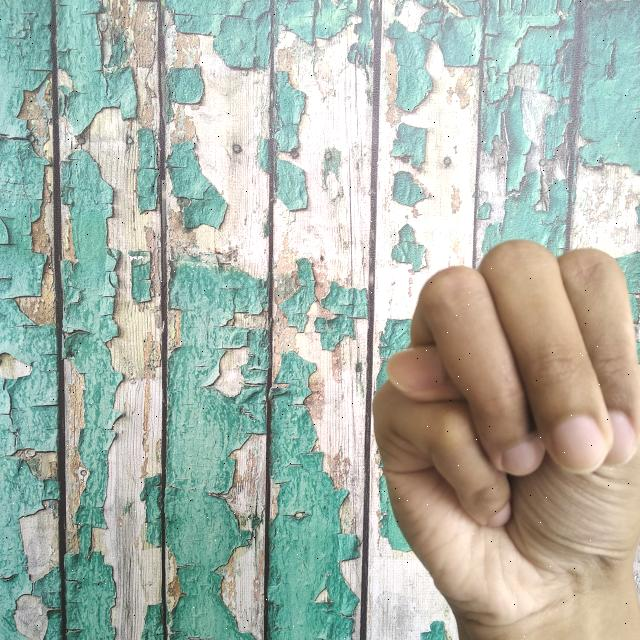M: (366, 229, 640, 640)
